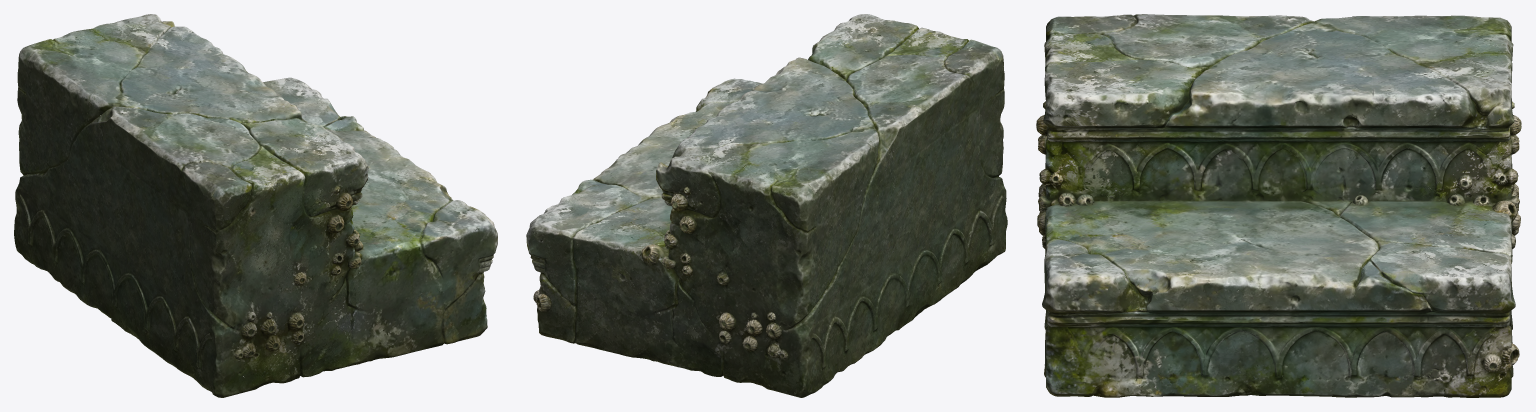
Rendered from T21_step.glb.
The picture shows the model from 3 angles, left to right: view 1: azimuth 30°, elevation 25°; view 2: azimuth 150°, elevation 25°; view 3: azimuth 270°, elevation 25°; orthographic projection. The views are drawn at different scales.
Parts seen in each view (by area): view 1: tripo_node_20a3a3f8-fcb9-479b-83f4-40f70579dc14; view 2: tripo_node_20a3a3f8-fcb9-479b-83f4-40f70579dc14; view 3: tripo_node_20a3a3f8-fcb9-479b-83f4-40f70579dc14.
Boxes of the visible parts, bbox=[...] form: tripo_node_20a3a3f8-fcb9-479b-83f4-40f70579dc14: bbox=[14, 14, 497, 397]; tripo_node_20a3a3f8-fcb9-479b-83f4-40f70579dc14: bbox=[526, 14, 1007, 397]; tripo_node_20a3a3f8-fcb9-479b-83f4-40f70579dc14: bbox=[1036, 14, 1521, 397].
Bounding box in the file's own units: 0.7591 × 0.53 × 0.9797.
1 material, 1 textured.
